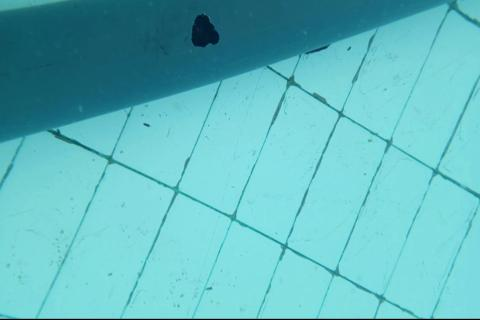kebocoran: (189, 12, 220, 48)
